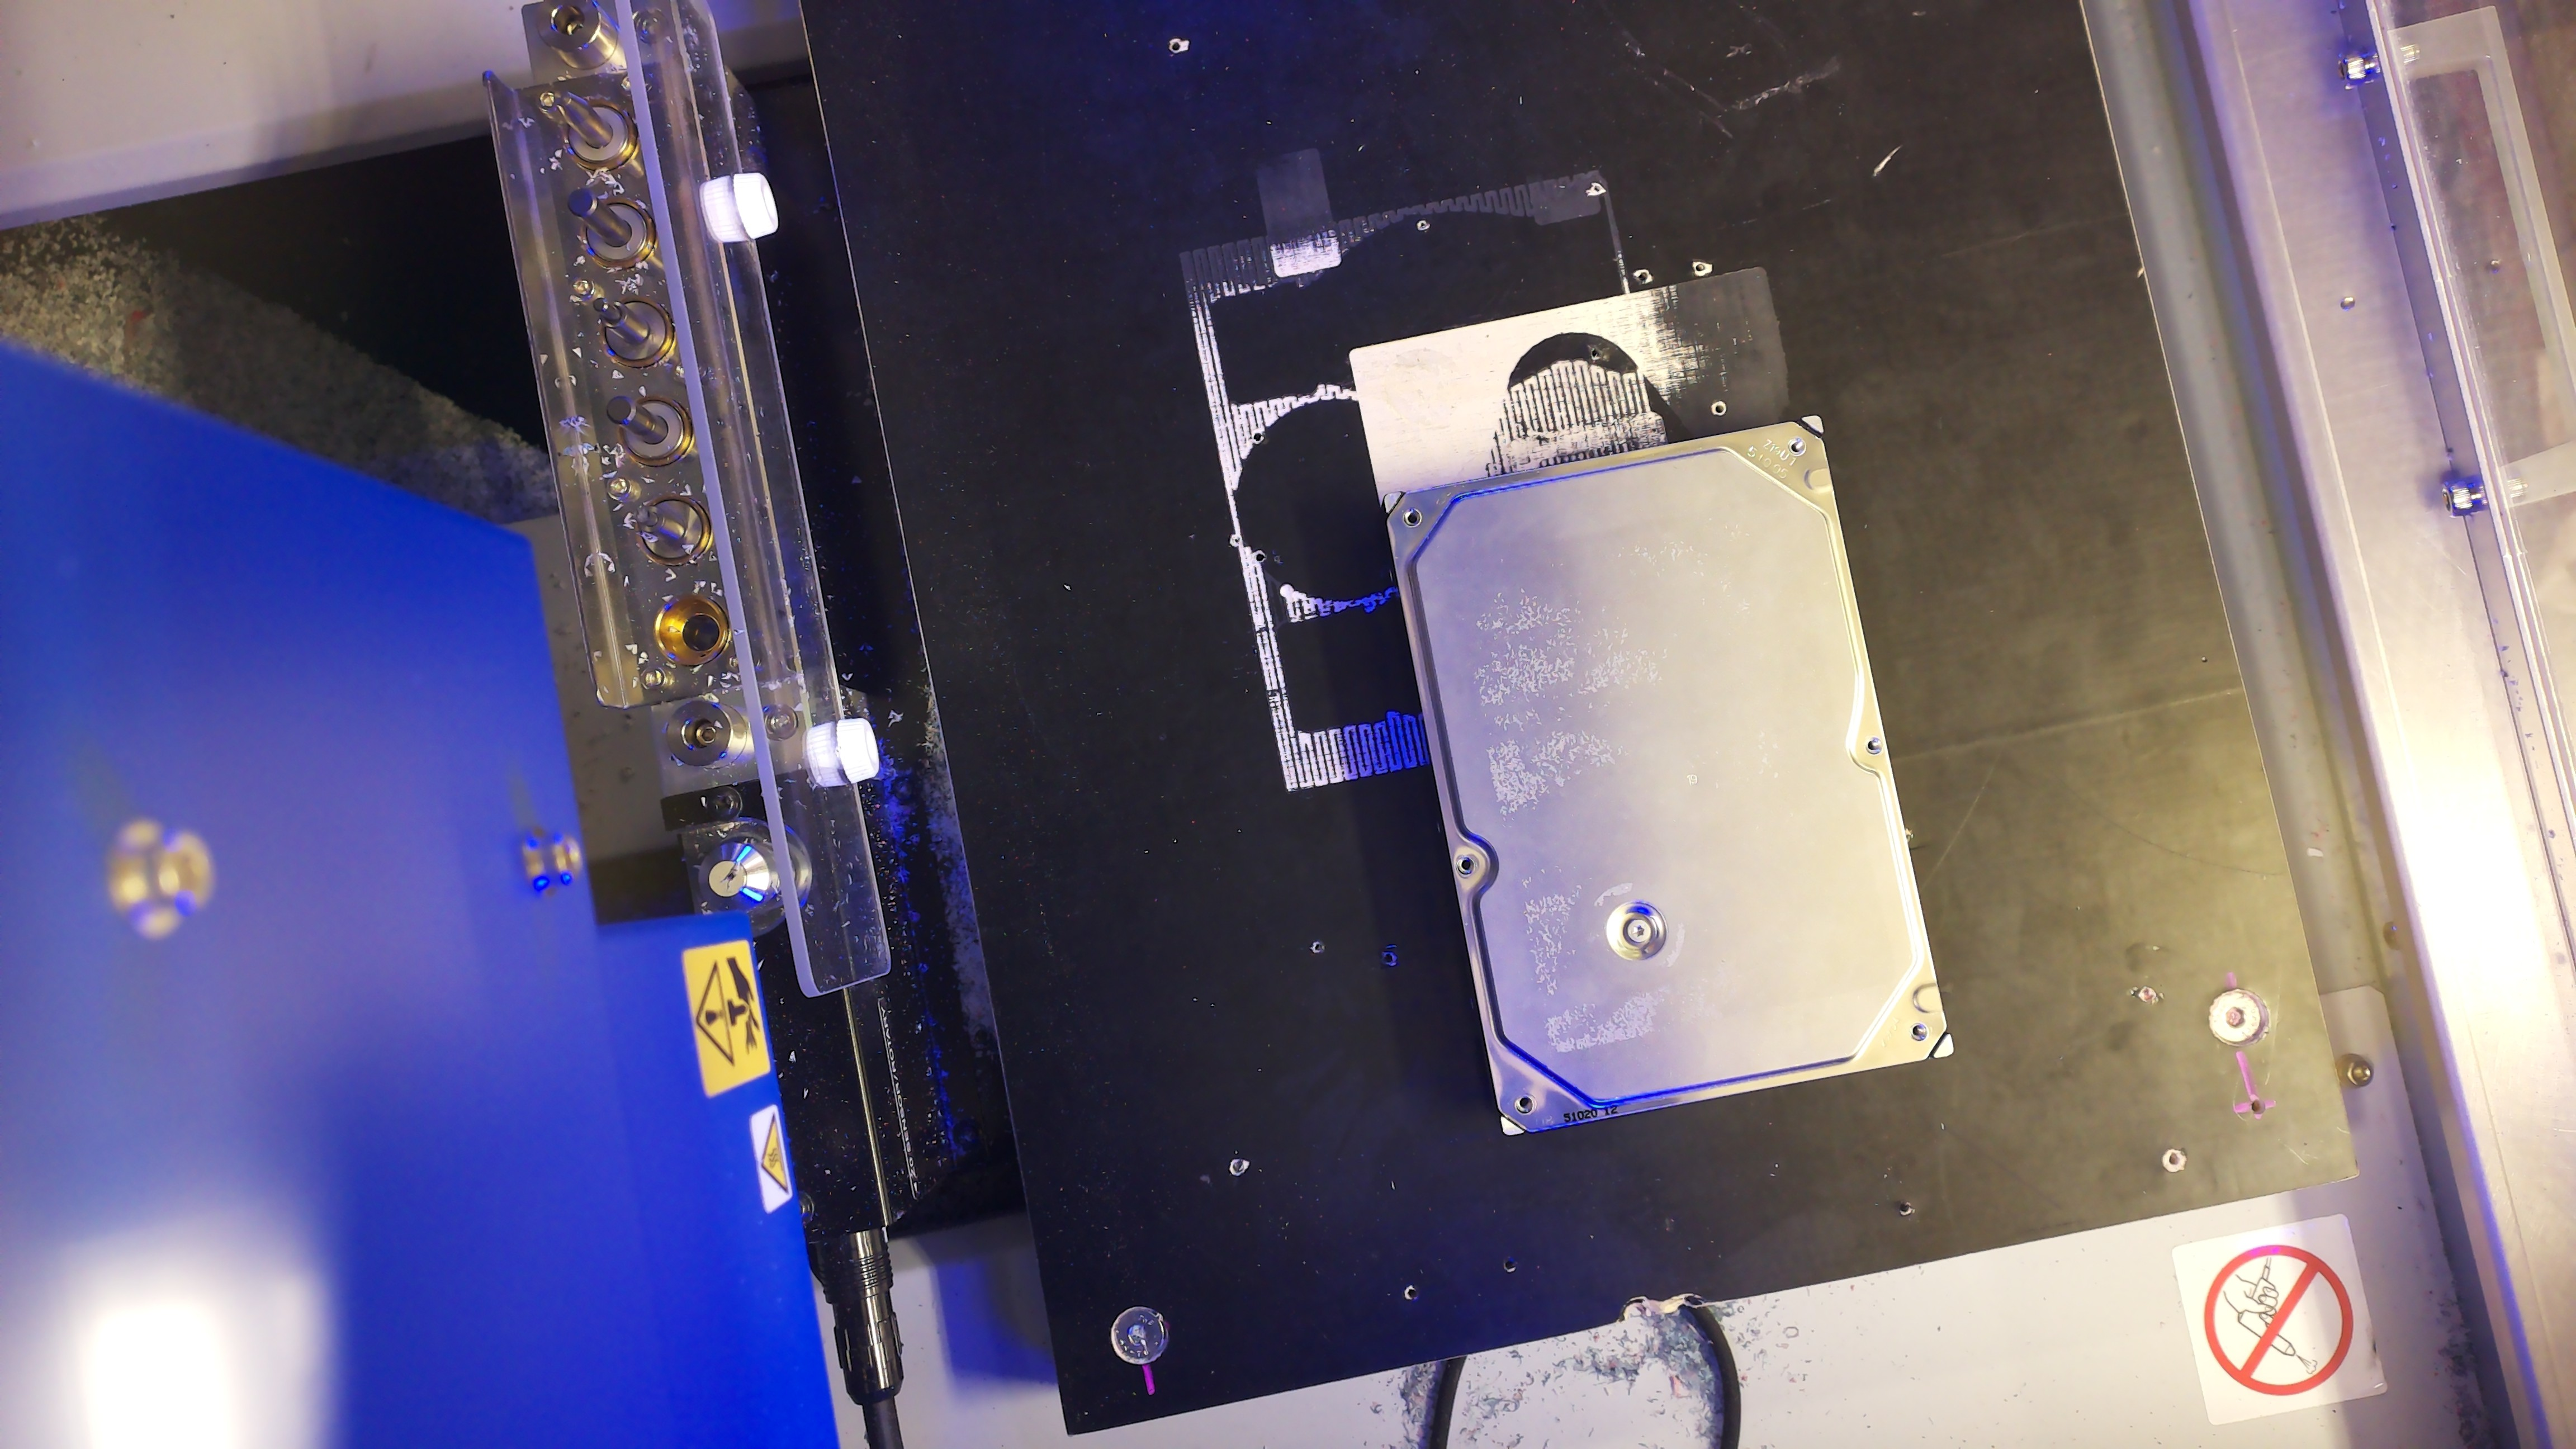Hole: (1401, 508, 1422, 527), (1456, 856, 1476, 878), (1514, 1095, 1534, 1115), (1909, 1023, 1928, 1042), (1865, 736, 1884, 755), (1787, 437, 1806, 456)
Screw: (1626, 918, 1651, 943)
